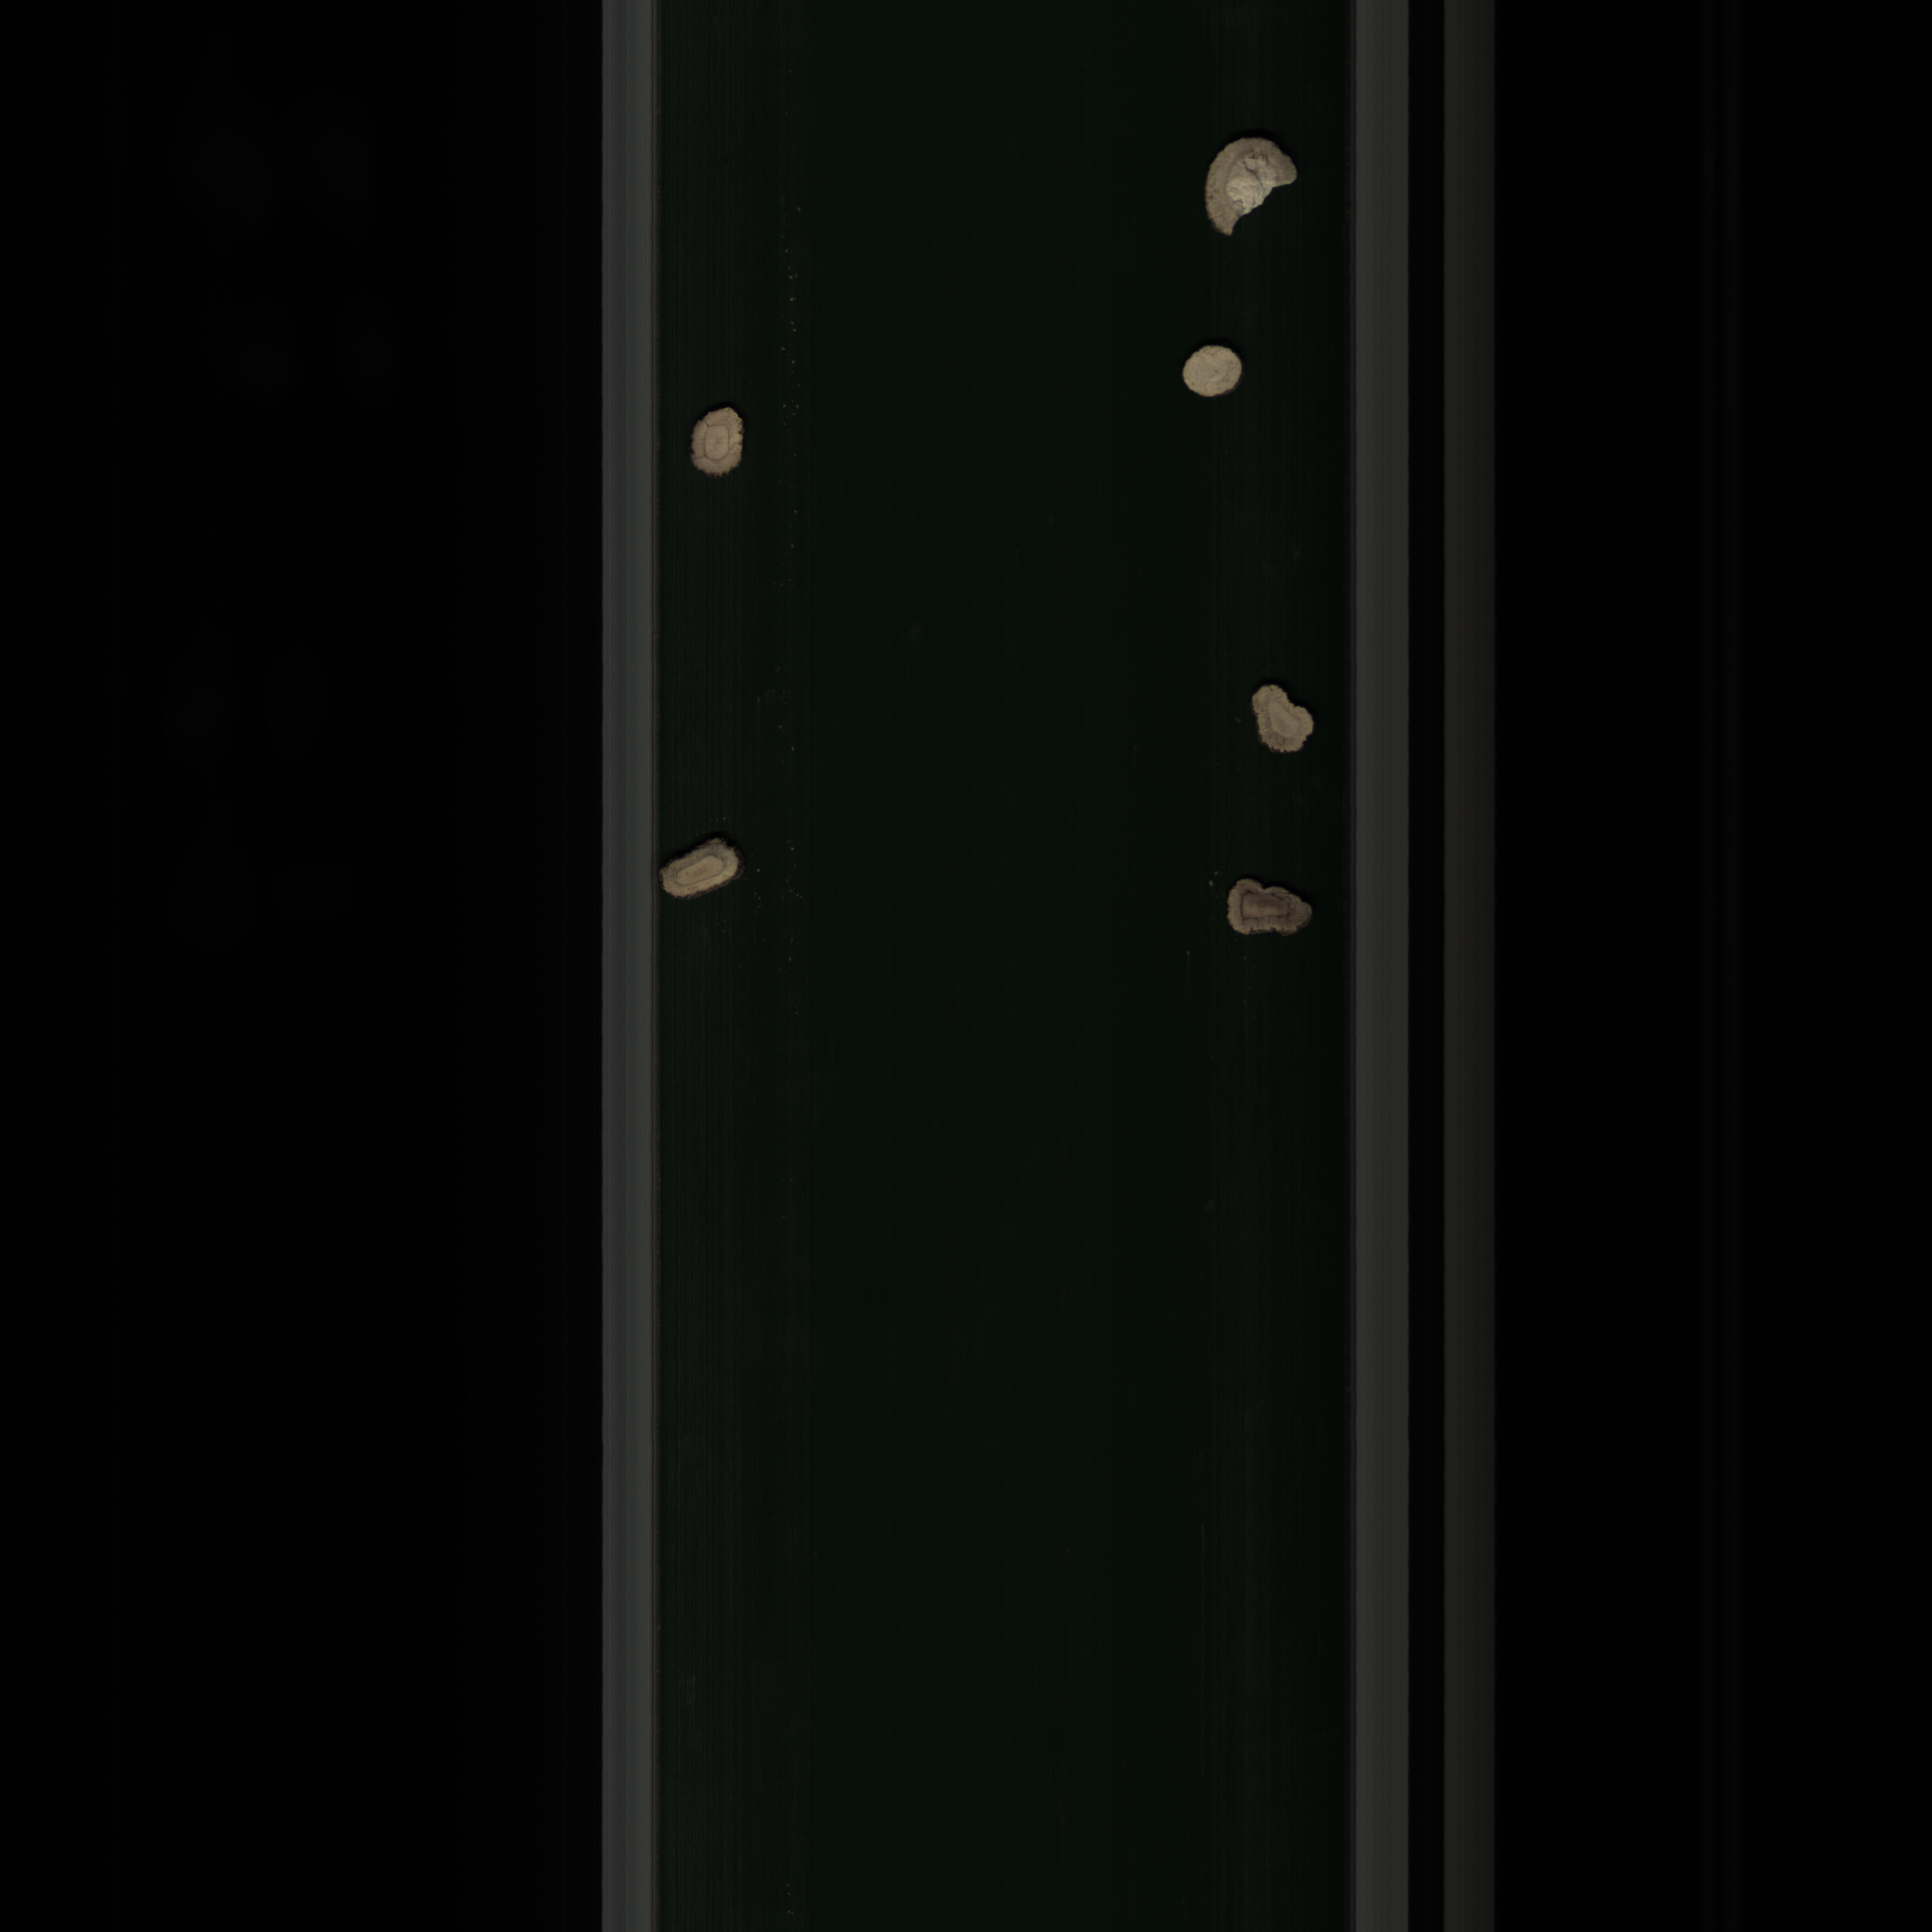debris: (1201, 127, 1295, 244)
moldy: (1219, 872, 1320, 957)
